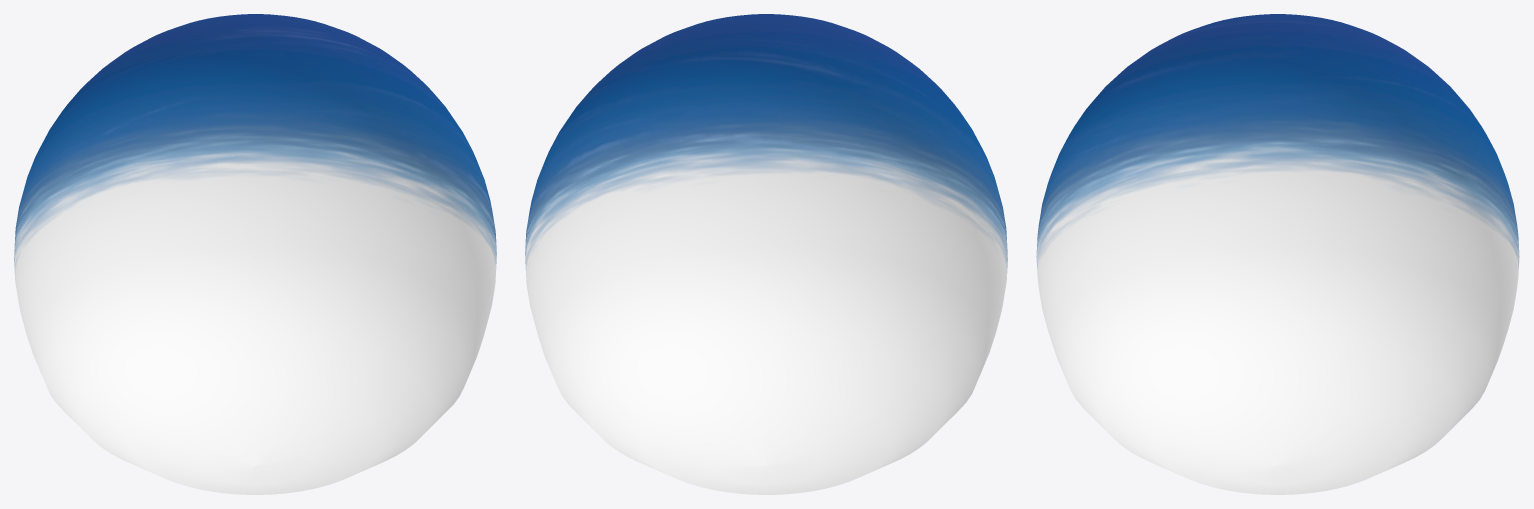
Rendered from open-sky-sunset-stage.glb.
The picture shows the model from 3 angles, left to right: view 1: azimuth 30°, elevation 25°; view 2: azimuth 150°, elevation 25°; view 3: azimuth 270°, elevation 25°; orthographic projection.
Parts seen in each view (by area): view 1: ClimateBaselineNode143; view 2: ClimateBaselineNode143; view 3: ClimateBaselineNode143.
Part boxes in pixels (x1=…): ClimateBaselineNode143: x1=14, y1=14, x2=496, y2=494; ClimateBaselineNode143: x1=525, y1=14, x2=1007, y2=494; ClimateBaselineNode143: x1=1036, y1=14, x2=1519, y2=494.
Size of what is drawn, in the model's own units: 1.97e+08 by 1.94e+08 by 1.97e+08.
Materials: 46 (37 with a texture image).
